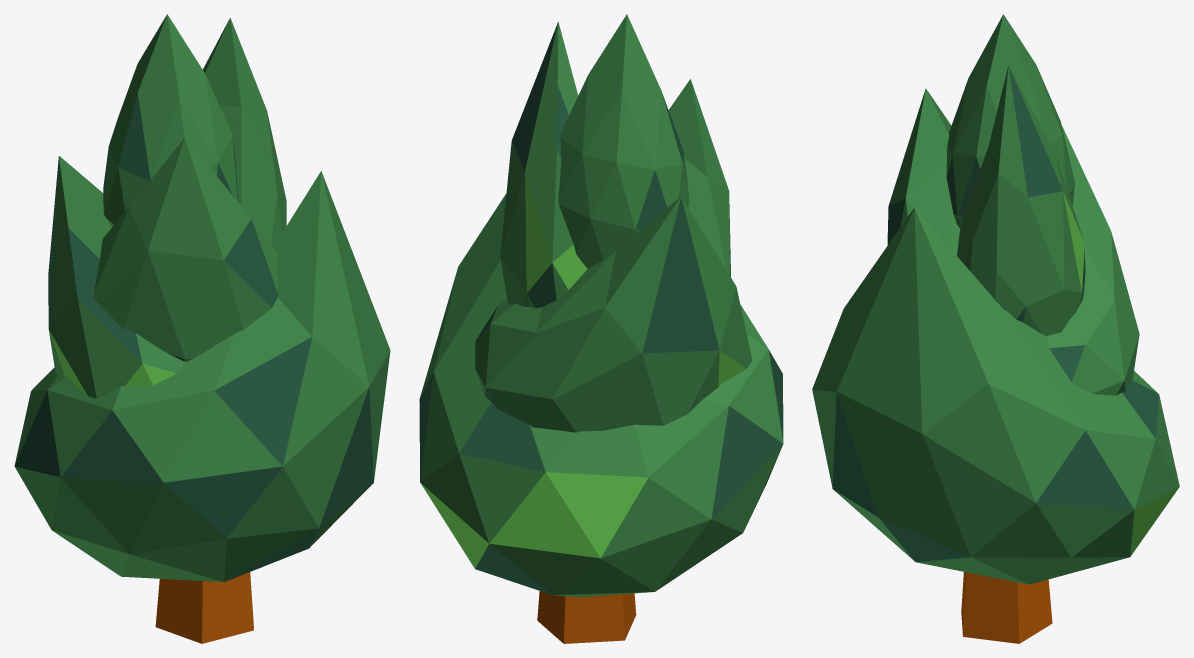
The model's file is Tree_08.fbx.
3 renders of one model, left to right at view 1: azimuth 30°, elevation 25°; view 2: azimuth 150°, elevation 25°; view 3: azimuth 270°, elevation 25°, orthographic. The views are drawn at different scales.
Parts seen in each view (by area): view 1: Tree_08; view 2: Tree_08; view 3: Tree_08.
Part boxes in pixels (x1=…): Tree_08: x1=14, y1=14, x2=390, y2=643; Tree_08: x1=419, y1=14, x2=783, y2=643; Tree_08: x1=812, y1=14, x2=1179, y2=643.
Size of the model in its own units: 361 by 664 by 374.
